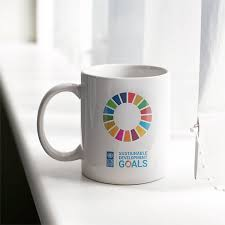mug: (27, 58, 175, 188)
